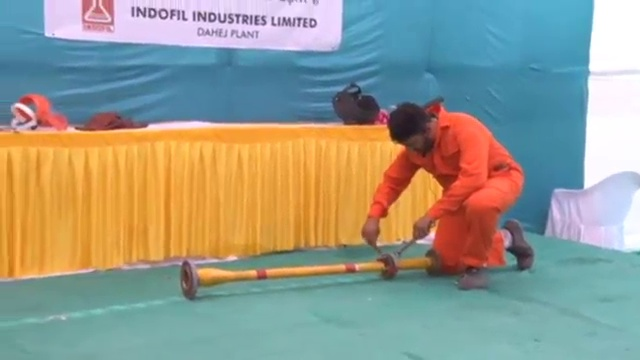helmet_off: (389, 102, 438, 153)
person: (363, 99, 538, 273)
